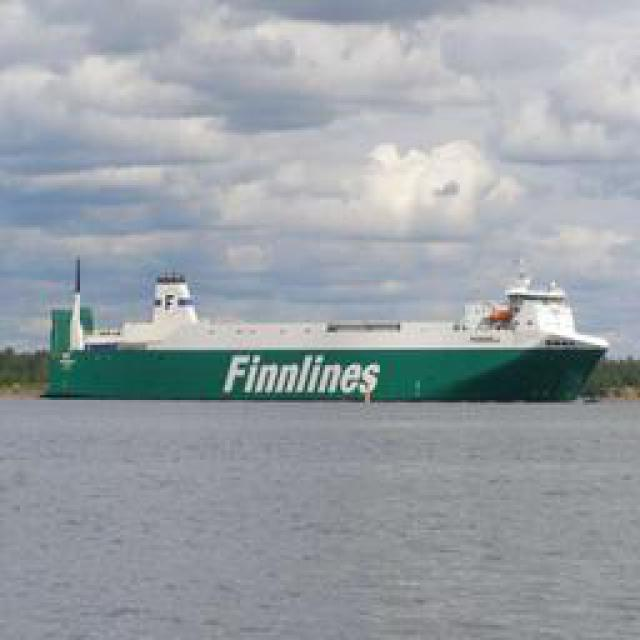Ship: (50, 274, 610, 404)
